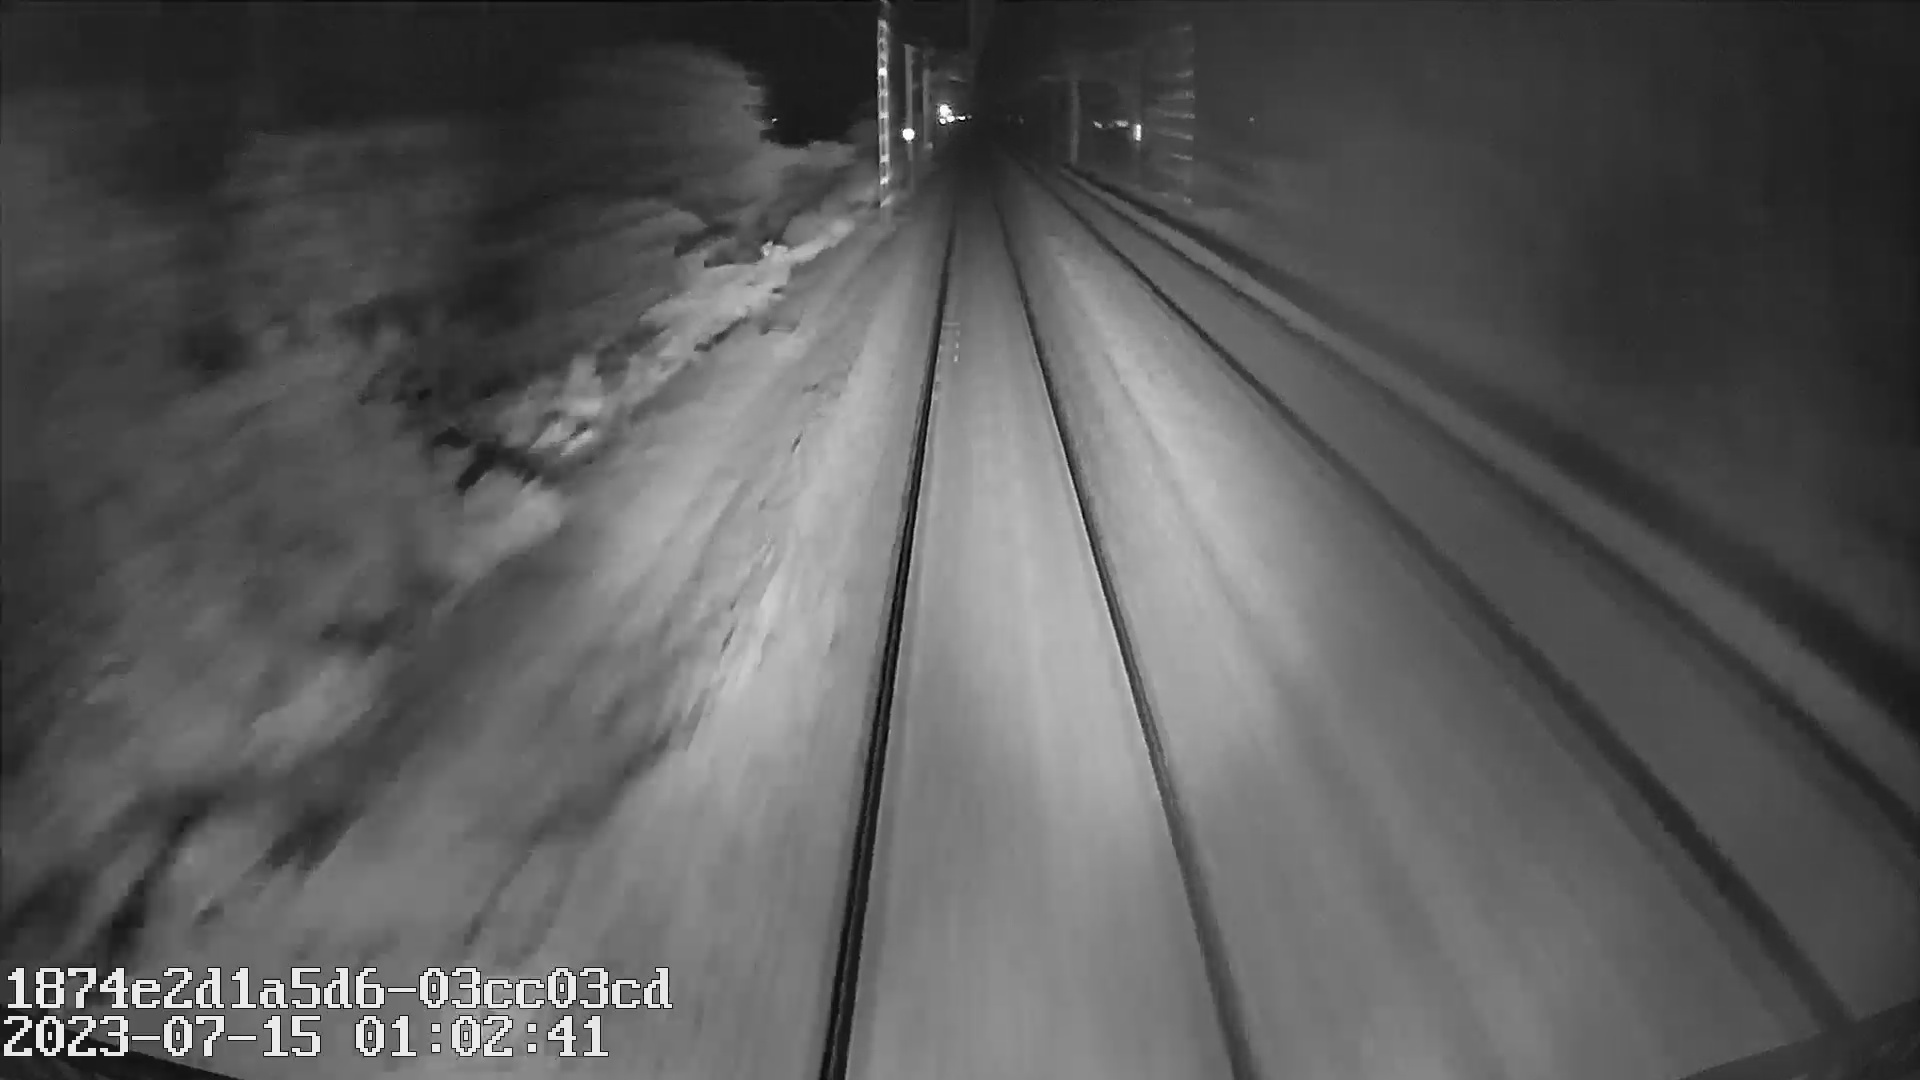track1: (839, 207, 1237, 1044)
track2: (1068, 203, 1907, 997)
